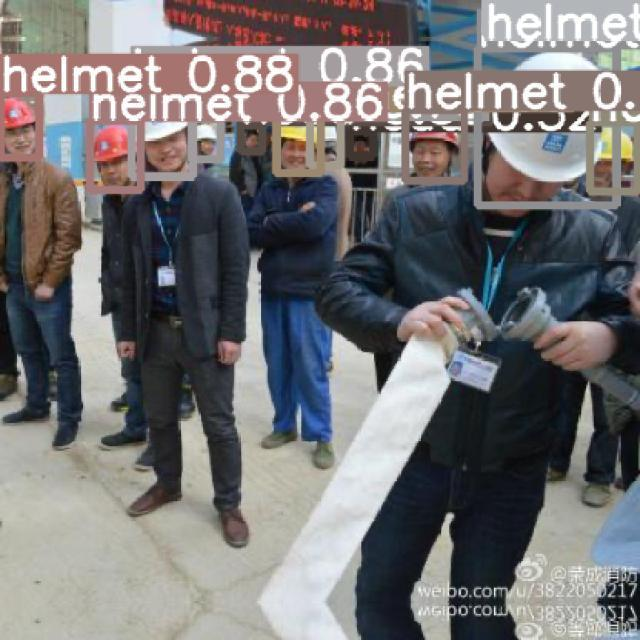red helmet: (1, 83, 53, 133), (94, 119, 139, 174), (401, 116, 471, 148)
white helmet: (486, 44, 618, 204), (186, 98, 231, 156), (141, 106, 193, 151)
yellow helmet: (591, 126, 640, 181), (281, 111, 323, 156)
